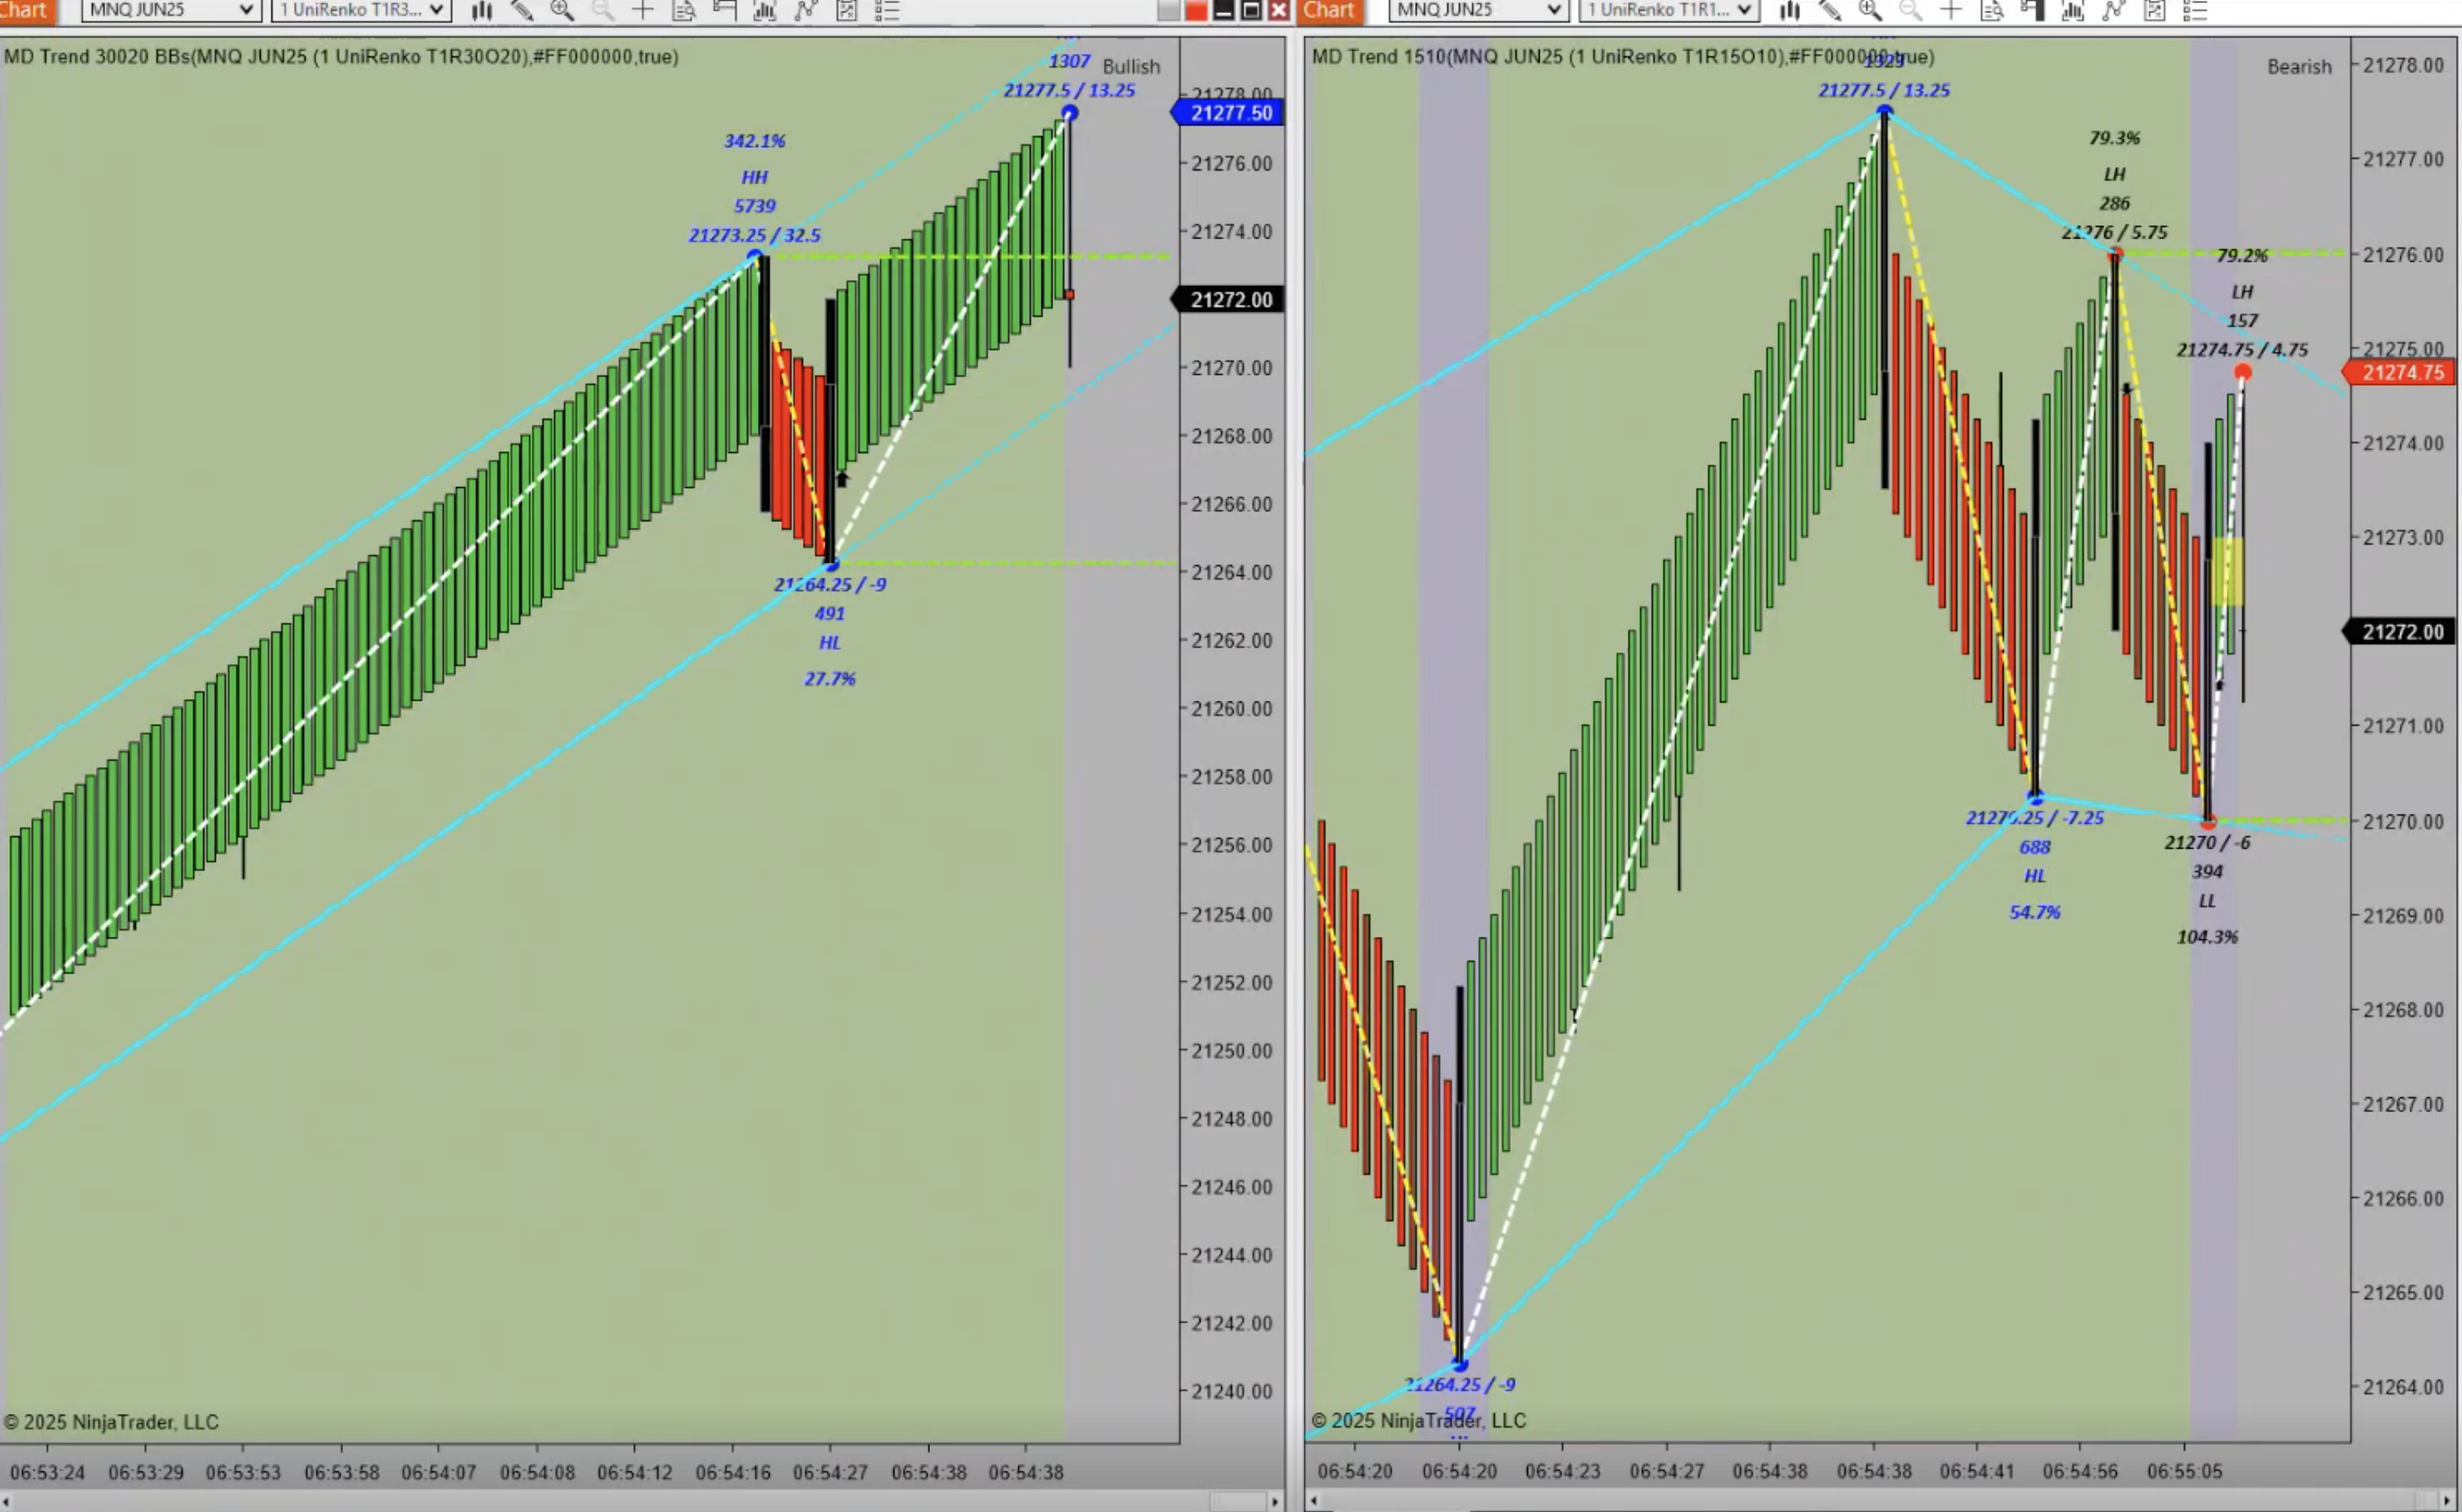candle: (2028, 417, 2045, 805), (2202, 440, 2219, 819), (2109, 251, 2124, 645), (1880, 109, 1896, 498), (760, 248, 781, 520), (821, 297, 841, 570), (1454, 988, 1465, 1354)
